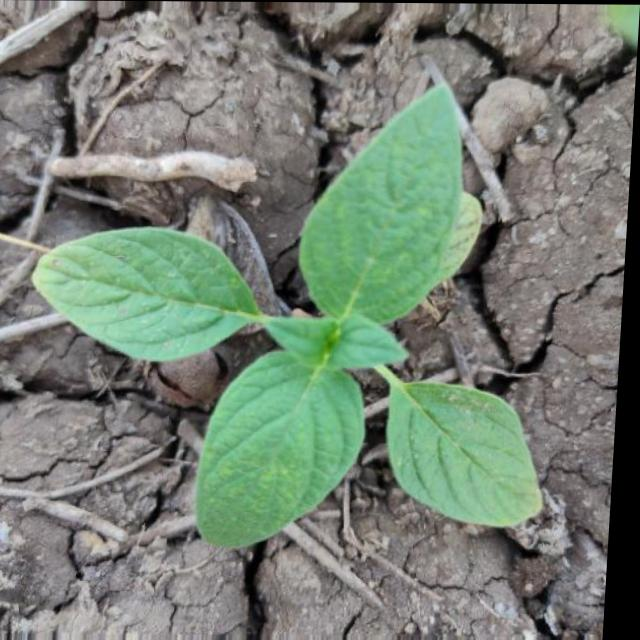crop: (13, 67, 572, 571)
